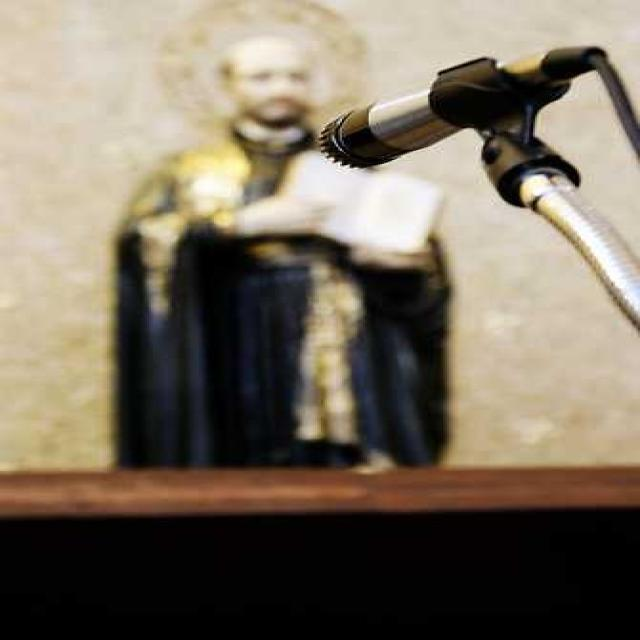microphone: (316, 46, 622, 196)
